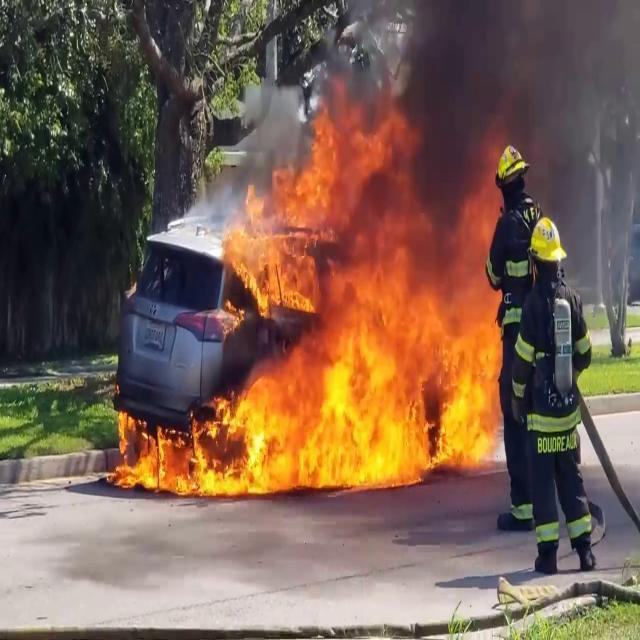Fire: (108, 96, 501, 518), (106, 322, 502, 515)
Smoke: (330, 0, 640, 248)
